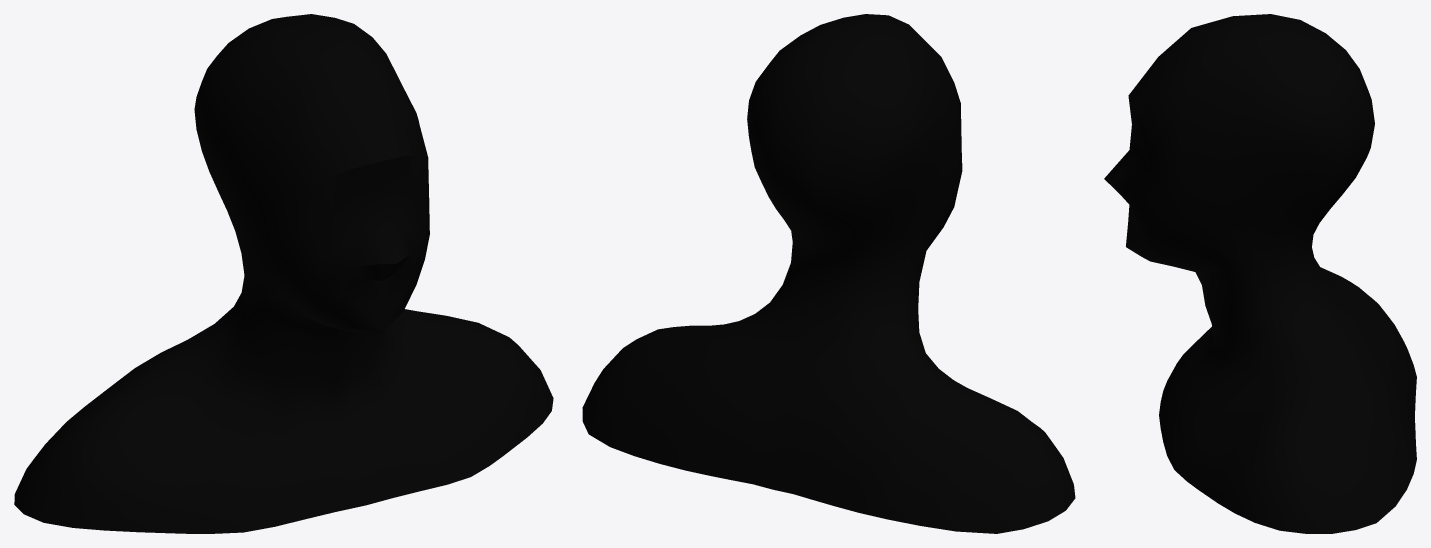
3 views of the same model, side by side, from view 1: azimuth 30°, elevation 25°; view 2: azimuth 150°, elevation 25°; view 3: azimuth 270°, elevation 25° (orthographic). The views are drawn at different scales.
Parts seen in each view (by area): view 1: ZBrush_defualt_group; view 2: ZBrush_defualt_group; view 3: ZBrush_defualt_group.
Part boxes in pixels (bbox=[...]): ZBrush_defualt_group: bbox=[14, 14, 553, 533]; ZBrush_defualt_group: bbox=[582, 14, 1075, 533]; ZBrush_defualt_group: bbox=[1104, 14, 1416, 533].
Size of the model in its own units: 5.09 by 4.21 by 2.97.
Materials: 1 (1 with a texture image).
